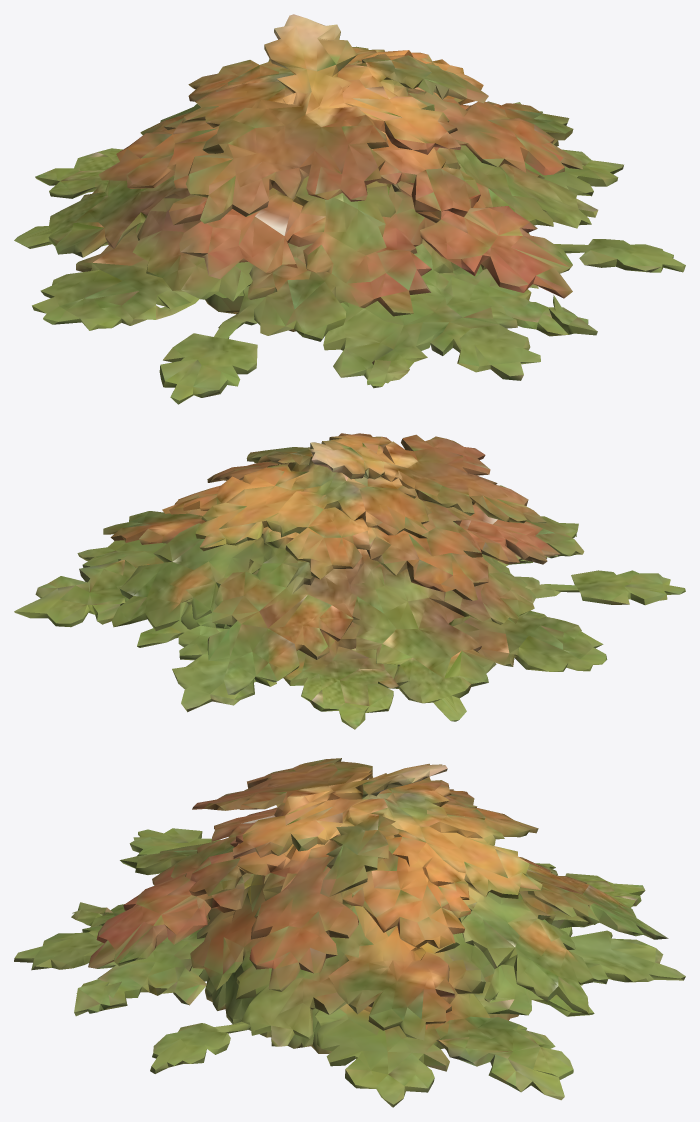
Rendered from hojas_monton.glb.
The picture shows the model from 3 angles, top to bottom: view 1: azimuth 30°, elevation 25°; view 2: azimuth 150°, elevation 25°; view 3: azimuth 270°, elevation 25°; orthographic projection. The views are drawn at different scales.
Visible parts, largest first — view 1: hojas_monton_malla; view 2: hojas_monton_malla; view 3: hojas_monton_malla.
Boxes of the visible parts, box(x1,y1,x2,y2) form: hojas_monton_malla: box(14, 14, 685, 404); hojas_monton_malla: box(14, 433, 685, 729); hojas_monton_malla: box(14, 758, 685, 1107).
Bounding box in the file's own units: 0.3131 × 0.1091 × 0.3169.
Materials: 1 (1 with a texture image).
